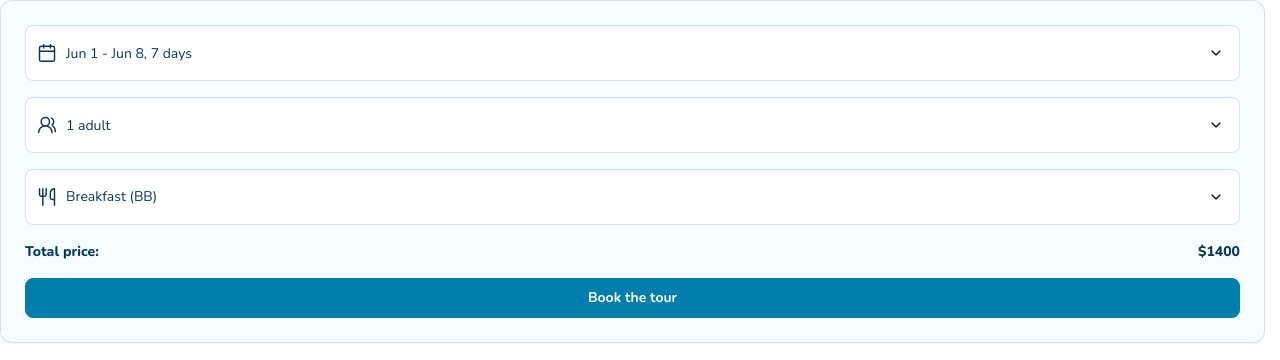
Test case: TourBookingForm Component › shows full meal plan labels with codes
The width and height of the screenshot is (1280, 360).
Click the button with aria-label "Meal plan" at (112, 196), box [25,169,1240,225]
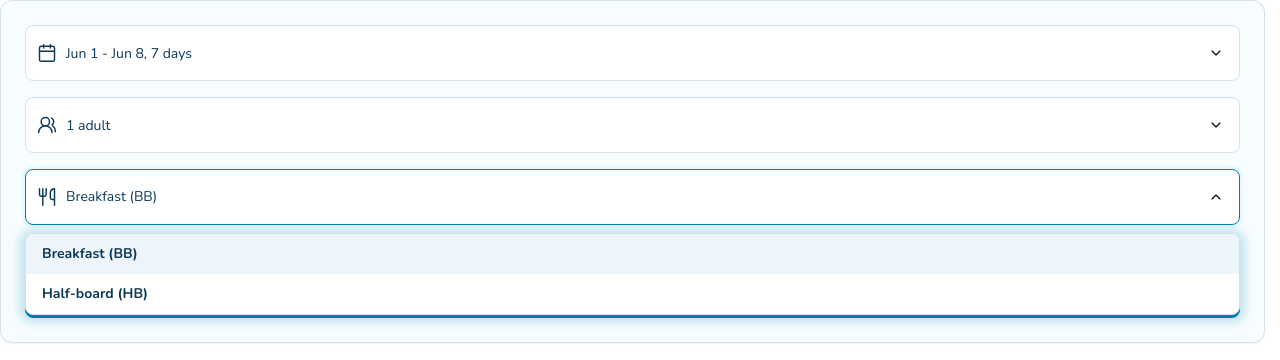
Now the option "Breakfast (BB)" is shown, box [26,234,1239,274]
Now the option "Half-board (HB)" is shown, box [26,274,1239,314]
